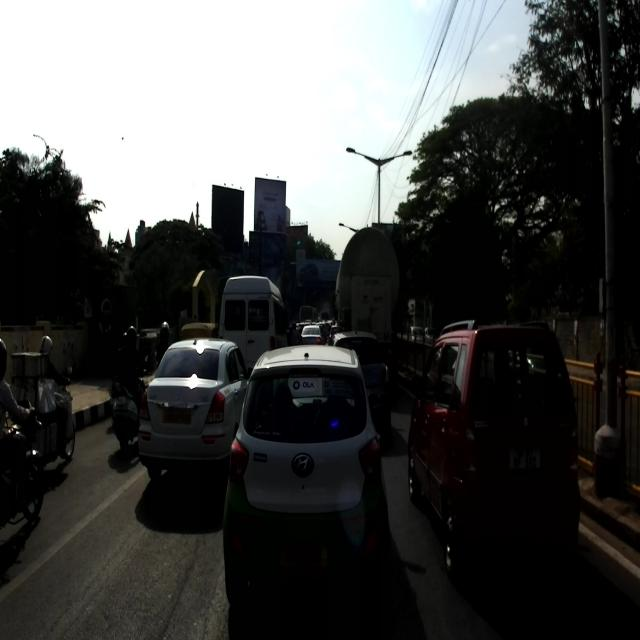autorickshaw: (180, 321, 217, 341)
bus: (219, 274, 287, 367), (299, 304, 318, 323), (320, 309, 329, 320)
car: (222, 343, 391, 609), (407, 319, 580, 576), (138, 336, 252, 480), (330, 330, 390, 433), (300, 325, 325, 345)
motorcycle: (0, 398, 46, 529), (27, 366, 75, 462)
scooter: (112, 353, 147, 456)
